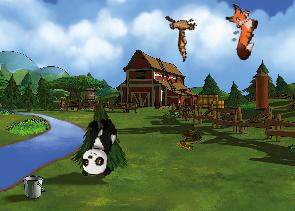eagle: (153, 3, 210, 62)
fox: (216, 2, 263, 61)
panda: (79, 115, 118, 178)
